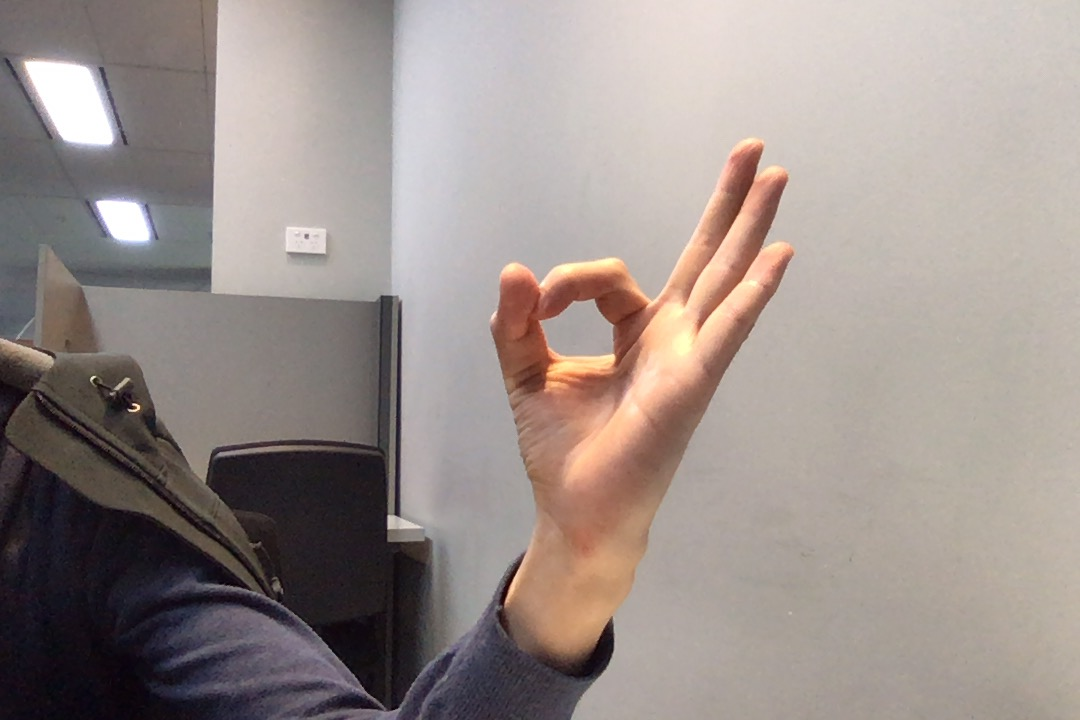oksign: (482, 129, 805, 533)
